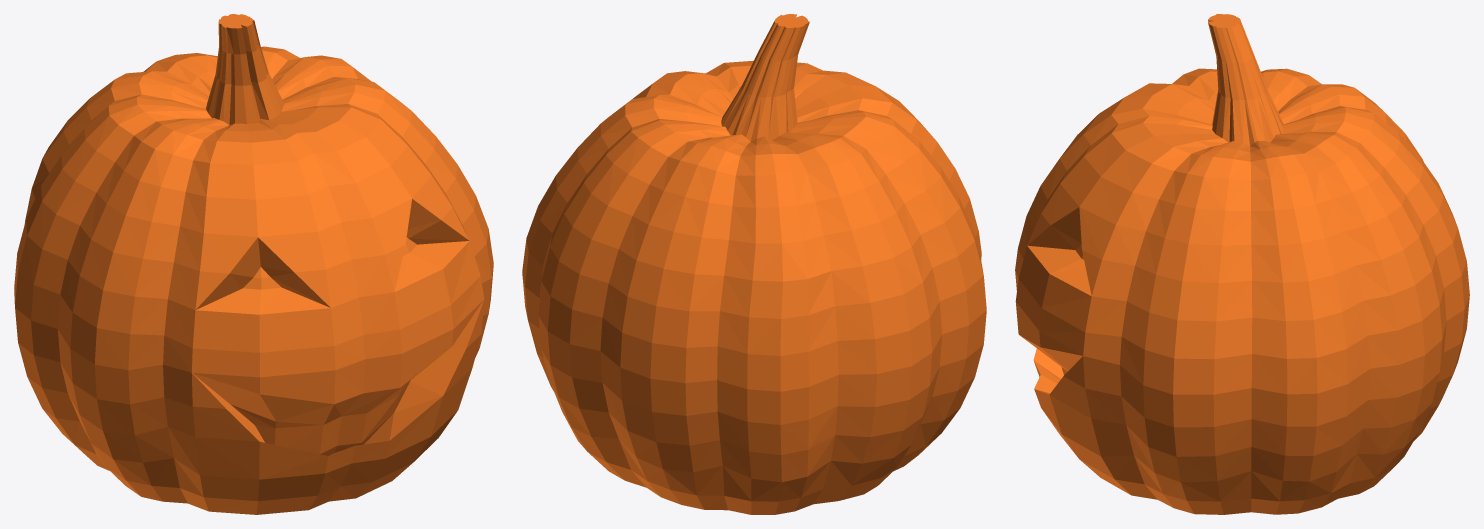
Rendered from pumpkin.glb.
The picture shows the model from 3 angles, left to right: view 1: azimuth 30°, elevation 25°; view 2: azimuth 150°, elevation 25°; view 3: azimuth 270°, elevation 25°; orthographic projection. The views are drawn at different scales.
Size of the model in its own units: 0.1161 by 0.118 by 0.1174.
